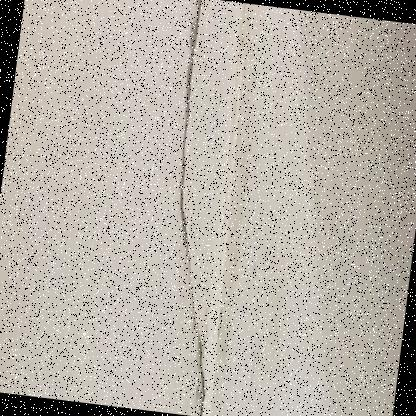Crack: (125, 0, 258, 415)
